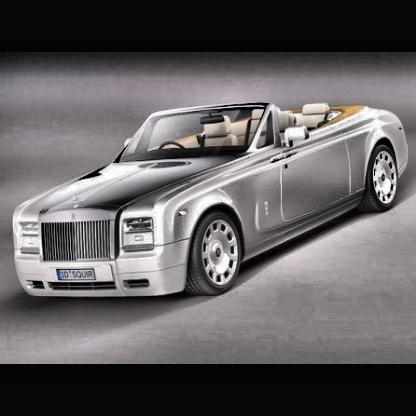Rolls-Royce Phantom Drophead Coupe Convertible 2012: (15, 103, 410, 297)
